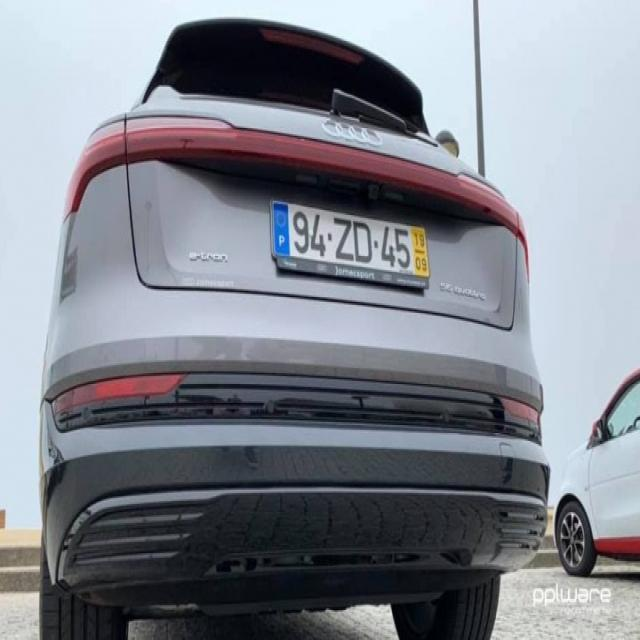portuguese-license-plates: (270, 197, 433, 280)
